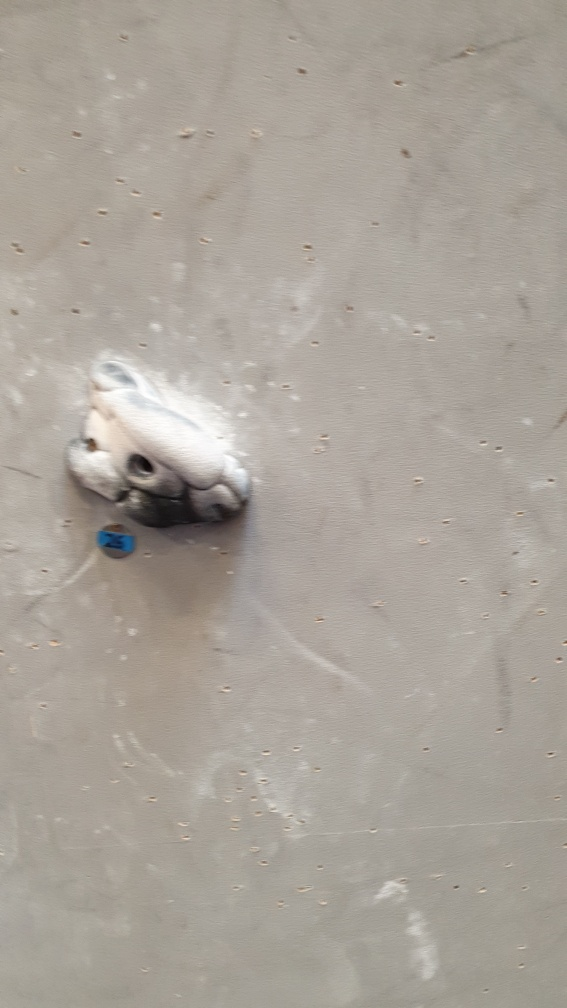Hand Start: (96, 520, 136, 561)
Jug: (64, 358, 255, 527)
